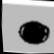correct: (12, 13, 54, 49)
